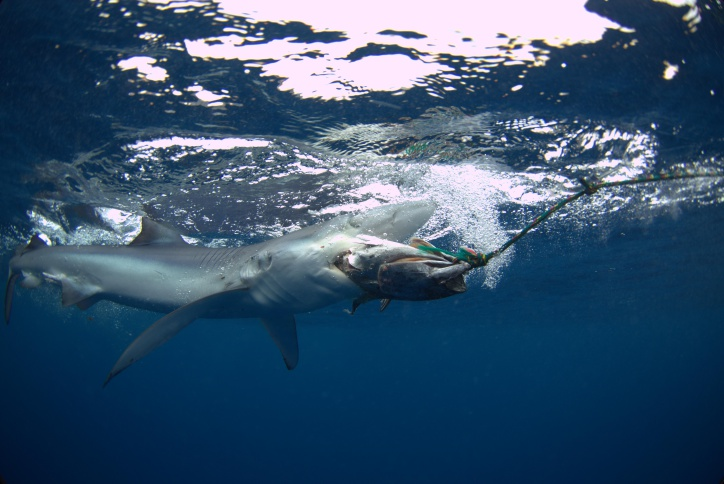Azul: (1, 167, 487, 405)
